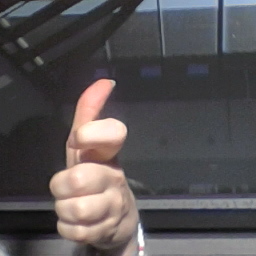G: (47, 76, 144, 247)
